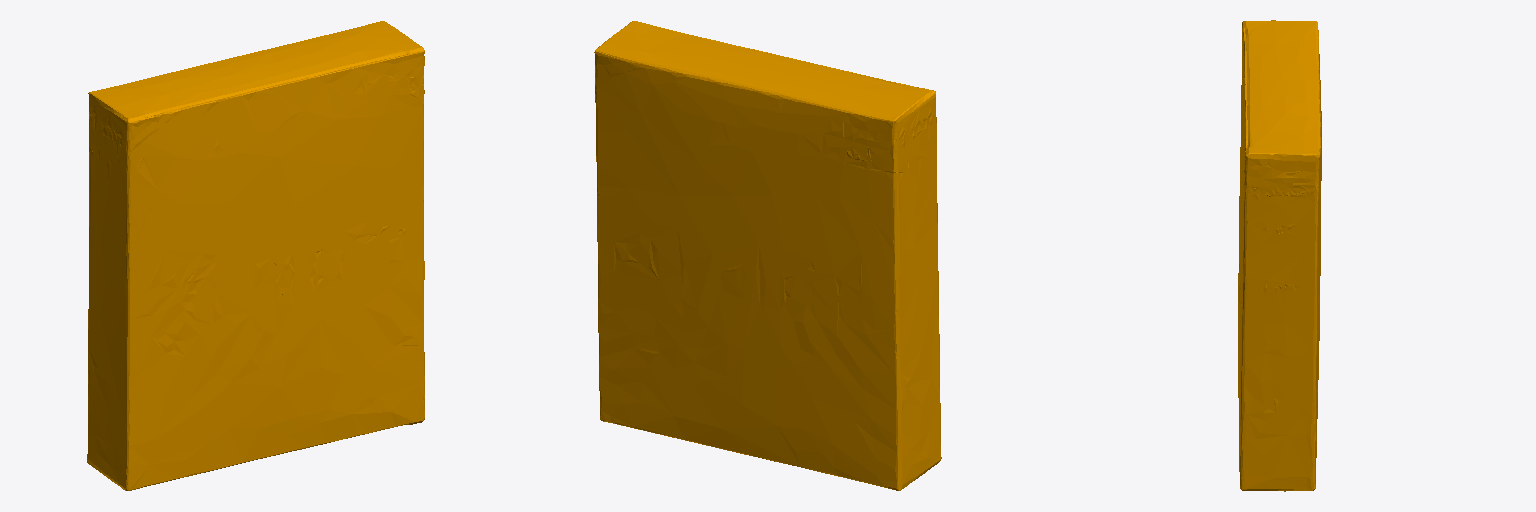
URDF robot description (Wrigley_Orbit_Mint_Variety_18_Count):
<?xml version="1.0" ?>
<robot name="Wrigley_Orbit_Mint_Variety_18_Count">
  <link name="link_0">
    <inertial>
      <origin xyz="0 0 0" rpy="0 0 0"/>
      <mass value="1.0"/>
      <inertia ixx="0.1" ixy="0.0" ixz="0.0" iyy="0.1" iyz="0.0" izz="0.1"/>
    </inertial>
    <visual name="visual">
      <origin xyz="0 0 0" rpy="0 0 0"/>
      <geometry>
        <mesh filename="meshes/model.obj"/>
      </geometry>
    </visual>
    <collision name="collision_0">
      <origin xyz="0 0 0" rpy="0 0 0"/>
      <geometry>
        <mesh filename="meshes/model.obj"/>
      </geometry>
    </collision>
  </link>
</robot>

--- Facts derived from the render (not from the file) ---
The picture shows the robot from 3 angles, left to right: view 1: azimuth 30°, elevation 25°; view 2: azimuth 150°, elevation 25°; view 3: azimuth 270°, elevation 25°; orthographic projection.
Model Wrigley_Orbit_Mint_Variety_18_Count with 1 links and 0 joints (none), rooted at link_0, posed all joints at 0.
Links seen in each view (by area): view 1: link_0; view 2: link_0; view 3: link_0.
Boxes of the visible links, x1=… form: link_0: x1=87, y1=21, x2=424, y2=490; link_0: x1=594, y1=21, x2=941, y2=490; link_0: x1=1238, y1=20, x2=1321, y2=491.
Bounding box of the posed robot: 0.1946 × 0.051 × 0.229 m (x, y, z).
1 mesh visuals loaded from 1 distinct referenced files (1 OBJ).